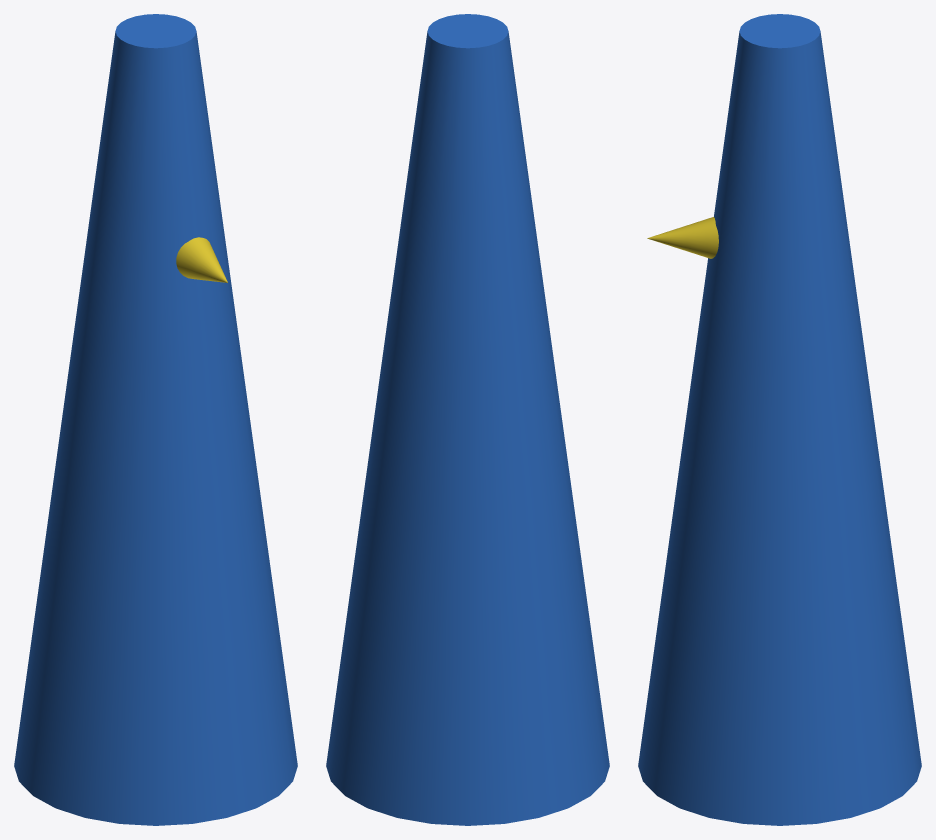
Rendered from Skin_blue.fbx.
3 views of the same model, side by side, from view 1: azimuth 30°, elevation 25°; view 2: azimuth 150°, elevation 25°; view 3: azimuth 270°, elevation 25° (orthographic).
Visible parts, largest first — view 1: Cone001, Cone003; view 2: Cone001; view 3: Cone001, Cone003.
Boxes of the visible parts, x1=… form: Cone001: x1=14, y1=14, x2=297, y2=825; Cone003: x1=176, y1=237, x2=227, y2=282; Cone001: x1=326, y1=14, x2=609, y2=825; Cone001: x1=638, y1=14, x2=921, y2=825; Cone003: x1=647, y1=217, x2=718, y2=258.
Bounding box in the file's own units: 2.6 × 7.44 × 2.6.
